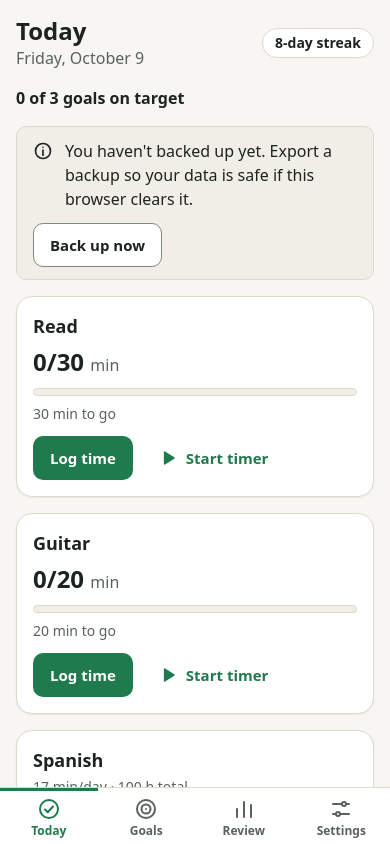
Test case: Today timer (M2-AC1, AC2, AC3, AC4, AC5) › shows validation errors inside D1 and keeps the timer (minutes, outside goal period)
This screenshot has width=390, height=844.
Click the button "Start timer" below "30 min to go" at (213, 458), box [141, 436, 285, 480]
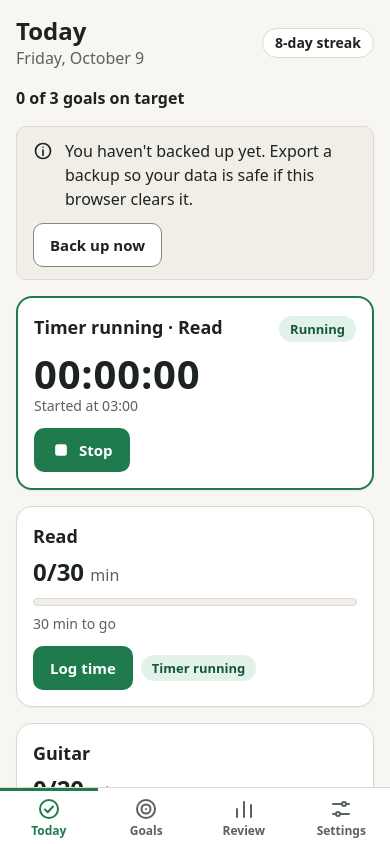
Expected: the element with test id "timer-card" is shown, [16, 296, 374, 490]
Click the button with aria-label "Stop timer for Read" at (82, 450), box [34, 428, 130, 472]
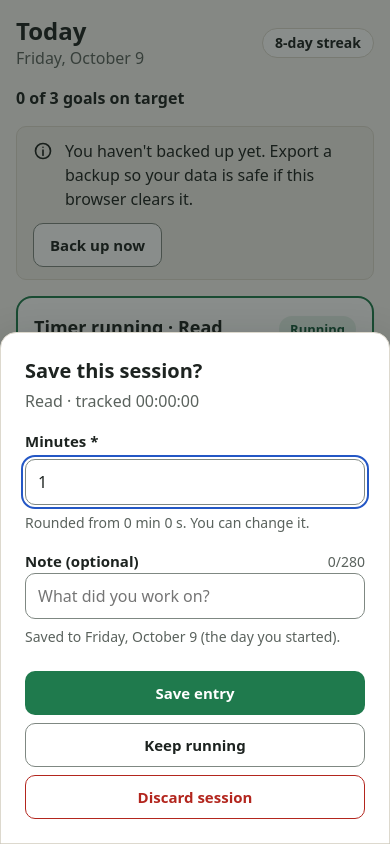
Expected: the field labelled "Minutes *" holds "1"
Replace the text in the field labelled "Minutes *" with "0" at (195, 482), box [25, 459, 365, 505]
Click the button "Save entry" at (195, 693), box [25, 671, 365, 715]
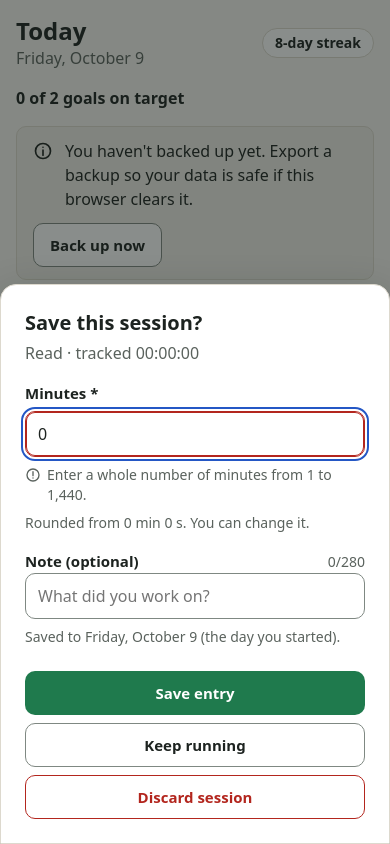
Expected: the text "Enter a whole number of minutes from 1 to 1,440." is shown, [47, 465, 365, 505]
Replace the text in the field labelled "Minutes *" with "10" at (195, 434), box [25, 411, 365, 457]
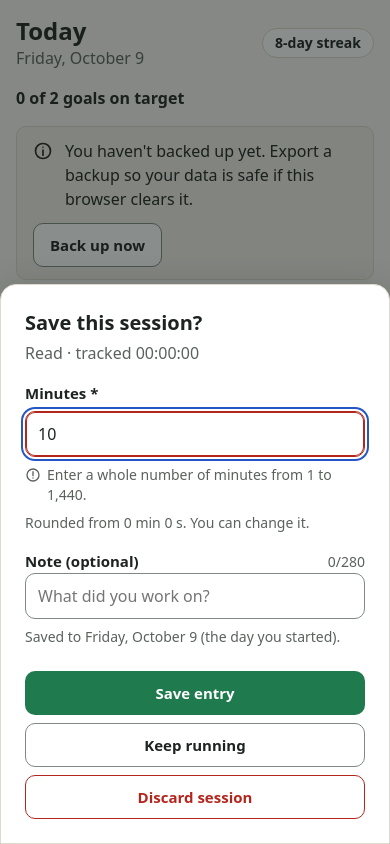
Click the button "Save entry" at (195, 693), box [25, 671, 365, 715]
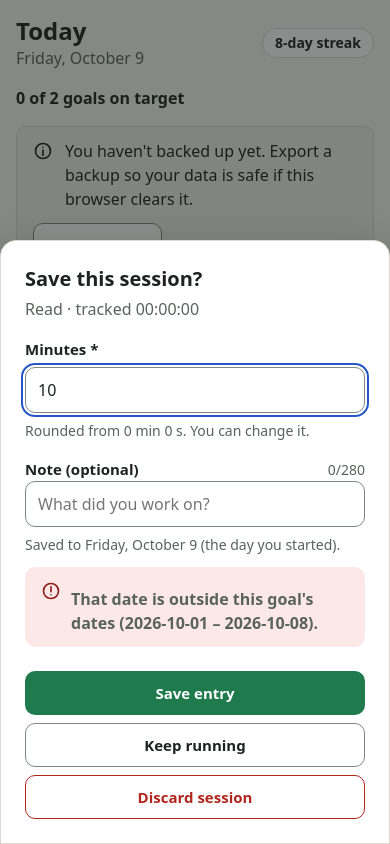
Expected: the element with test id "timer-card" is shown, [16, 296, 374, 490]
Expected: the message reads "That date is outside this goal's dates (2026-10-01 – 2026-10-08).", [71, 588, 318, 634]
Click the button "Discard session" at (195, 797), box [25, 775, 365, 819]
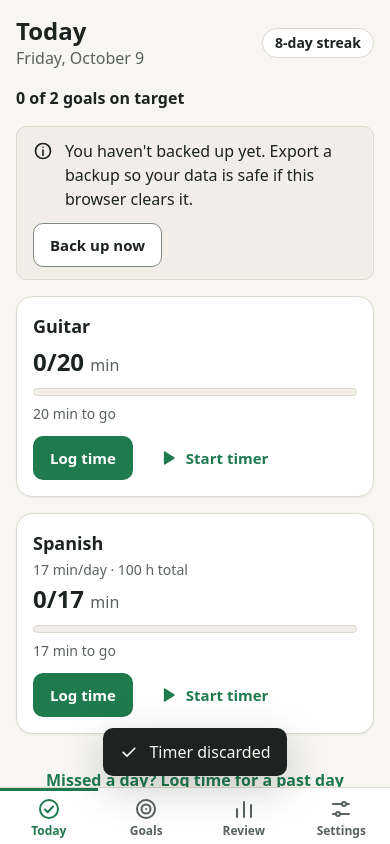
Expected: the element with test id "timer-card" is gone
